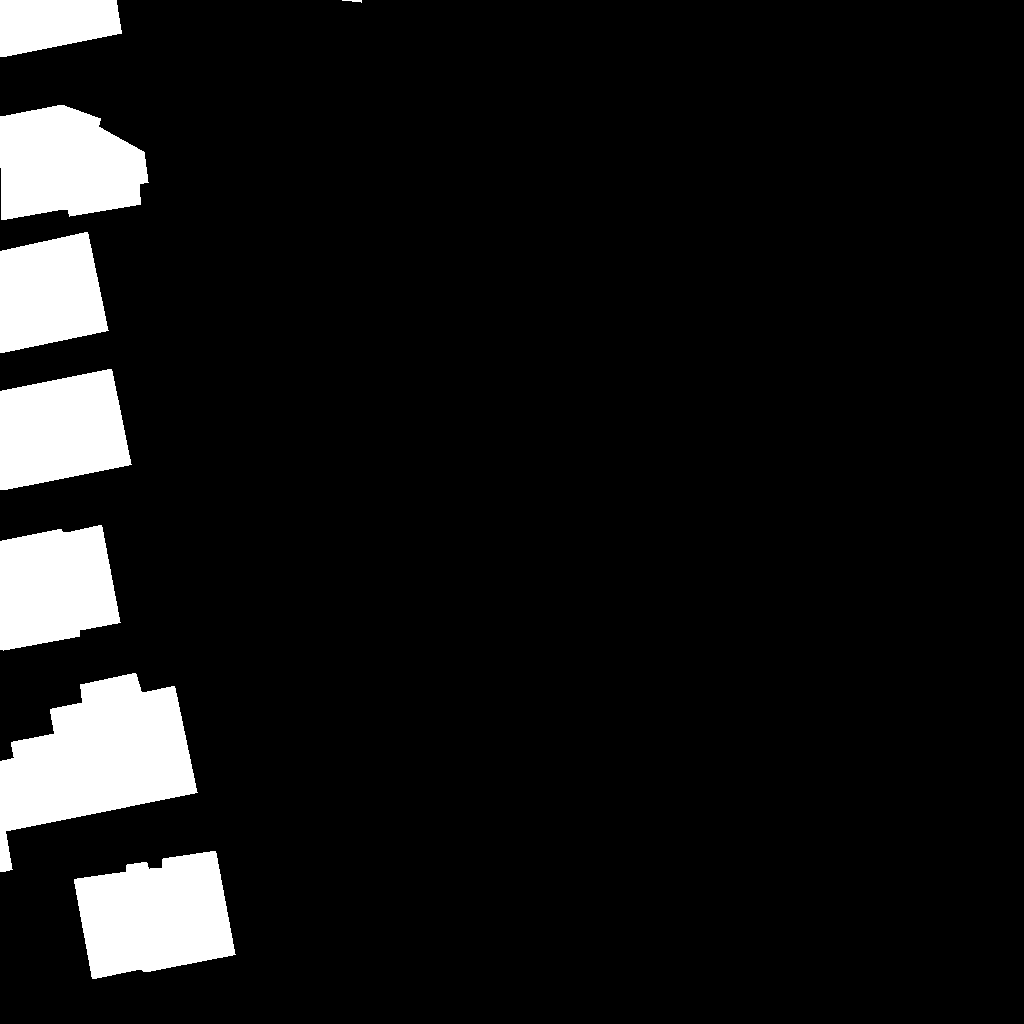building: (0, 673, 198, 873), (74, 851, 236, 980), (0, 105, 149, 221), (0, 369, 132, 491), (0, 525, 121, 651), (0, 232, 109, 354), (0, 0, 123, 58), (338, 0, 363, 3)
